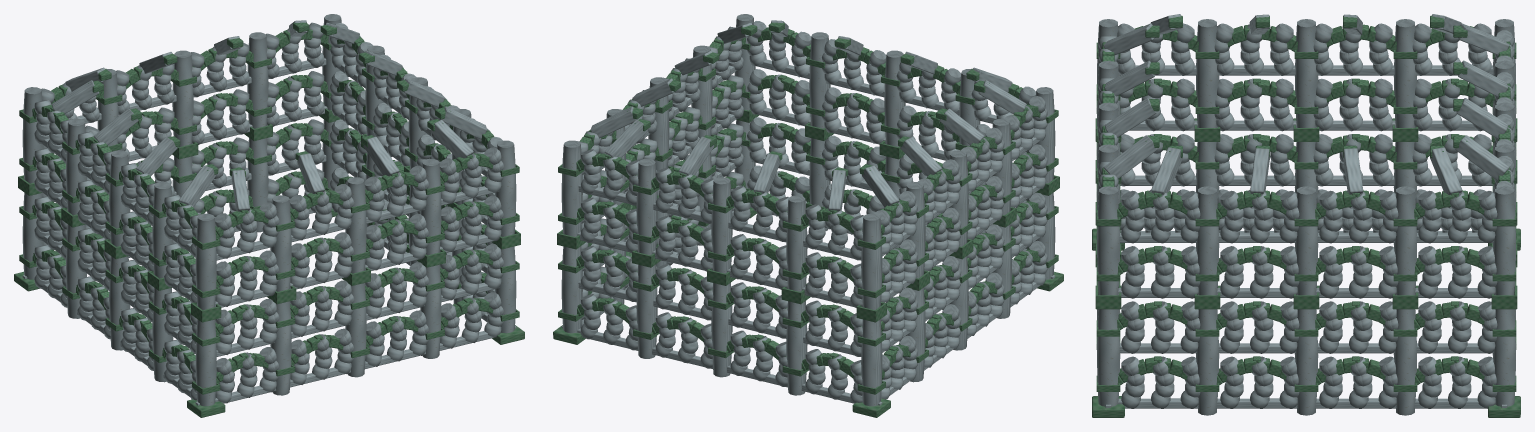
3 views of the same model, side by side, from view 1: azimuth 30°, elevation 25°; view 2: azimuth 150°, elevation 25°; view 3: azimuth 270°, elevation 25° (orthographic). The views are drawn at different scales.
Visible parts, largest first — view 1: Tier 1 side 0 post 0, Tier 1 side 2 post 1, Tier 0 side 0 post 0, Tier 1 side 2 post 2, Tier 1 side 0 post 1, Tier 1 side 0 post 2, Tier 1 side 0 post 3, Tier 1 side 1 post 0, Tier 0 side 0 post 1, Tier 0 side 0 post 2, Tier 0 side 0 post 3, Tier 0 side 2 post 1 (+25 smaller); view 2: Tier 1 side 3 post 0, Tier 1 side 2 post 2, Tier 1 side 2 post 0, Tier 1 side 2 post 3, Tier 1 side 2 post 1, Tier 0 side 3 post 0, Tier 0 side 2 post 2, Tier 0 side 2 post 1, Tier 0 side 2 post 3, Tier 0 side 2 post 0, Tier 1 side 0 post 3, Tier 1 side 0 post 2 (+24 smaller); view 3: Tier 1 side 1 post 0, Tier 1 side 2 post 0, Tier 1 side 1 post 1, Tier 1 side 1 post 2, Tier 1 side 1 post 3, Tier 1 side 3 post 3, Tier 1 side 3 post 2, Tier 1 side 3 post 1, Tier 0 side 1 post 2, Tier 0 side 1 post 1, Tier 0 side 1 post 3, Tier 0 side 1 post 0 (+37 smaller).
Part boxes in pixels (<box>): Tier 1 side 0 post 0: <box>195,213,216,309</box>; Tier 1 side 2 post 1: <box>247,32,268,128</box>; Tier 0 side 0 post 0: <box>195,319,216,406</box>; Tier 1 side 2 post 2: <box>172,50,193,146</box>; Tier 1 side 0 post 1: <box>270,195,291,291</box>; Tier 1 side 0 post 2: <box>345,177,366,273</box>; Tier 1 side 0 post 3: <box>420,159,441,255</box>; Tier 1 side 1 post 0: <box>495,140,516,236</box>; Tier 0 side 0 post 1: <box>270,301,291,395</box>; Tier 0 side 0 post 2: <box>345,283,366,377</box>; Tier 0 side 0 post 3: <box>420,264,441,358</box>; Tier 0 side 2 post 1: <box>247,138,268,232</box>; Tier 1 side 3 post 0: <box>861,213,882,309</box>; Tier 1 side 2 post 2: <box>711,177,732,273</box>; Tier 1 side 2 post 0: <box>561,140,582,236</box>; Tier 1 side 2 post 3: <box>786,195,807,291</box>; Tier 1 side 2 post 1: <box>636,159,657,255</box>; Tier 0 side 3 post 0: <box>861,319,882,406</box>; Tier 0 side 2 post 2: <box>711,283,732,377</box>; Tier 0 side 2 post 1: <box>636,264,657,358</box>; Tier 0 side 2 post 3: <box>786,301,807,395</box>; Tier 0 side 2 post 0: <box>561,246,582,333</box>; Tier 1 side 0 post 3: <box>809,32,830,128</box>; Tier 1 side 0 post 2: <box>884,50,905,146</box>; Tier 1 side 1 post 0: <box>1097,186,1120,295</box>; Tier 1 side 2 post 0: <box>1492,186,1515,295</box>; Tier 1 side 1 post 1: <box>1196,186,1219,295</box>; Tier 1 side 1 post 2: <box>1295,186,1318,295</box>; Tier 1 side 1 post 3: <box>1393,186,1416,295</box>; Tier 1 side 3 post 3: <box>1196,19,1219,127</box>; Tier 1 side 3 post 2: <box>1294,19,1318,127</box>; Tier 1 side 3 post 1: <box>1393,19,1416,127</box>; Tier 0 side 1 post 2: <box>1294,309,1318,415</box>; Tier 0 side 1 post 1: <box>1196,309,1219,415</box>; Tier 0 side 1 post 3: <box>1393,309,1416,415</box>; Tier 0 side 1 post 0: <box>1097,309,1120,406</box>.
Size of the model in its own units: 1.95 by 1.23 by 1.95.
2 materials, 2 textured.
